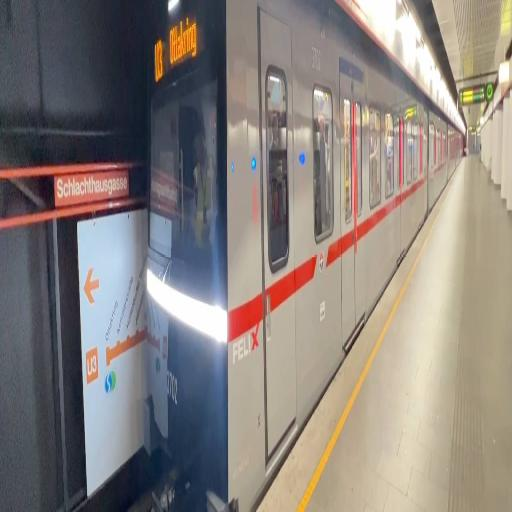X-Wagen: (148, 0, 462, 502)
